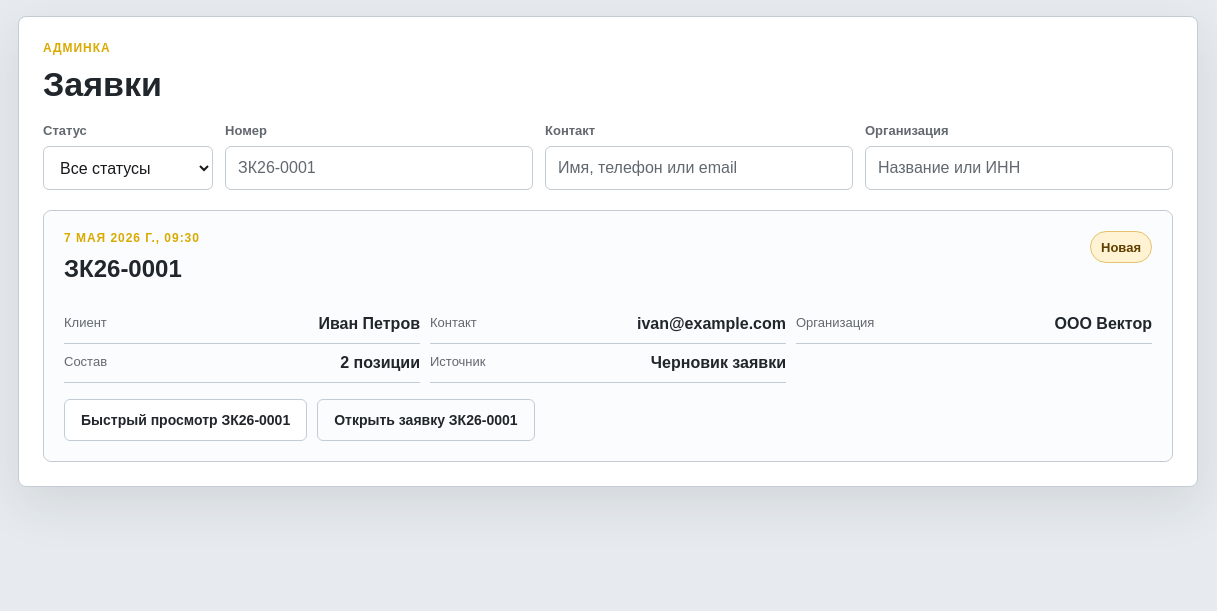
Admin RequestsPageClient › keeps filters mounted while refreshing the list
In the search field labelled "Номер": (379, 168) [225,146,533,190], type "0001"
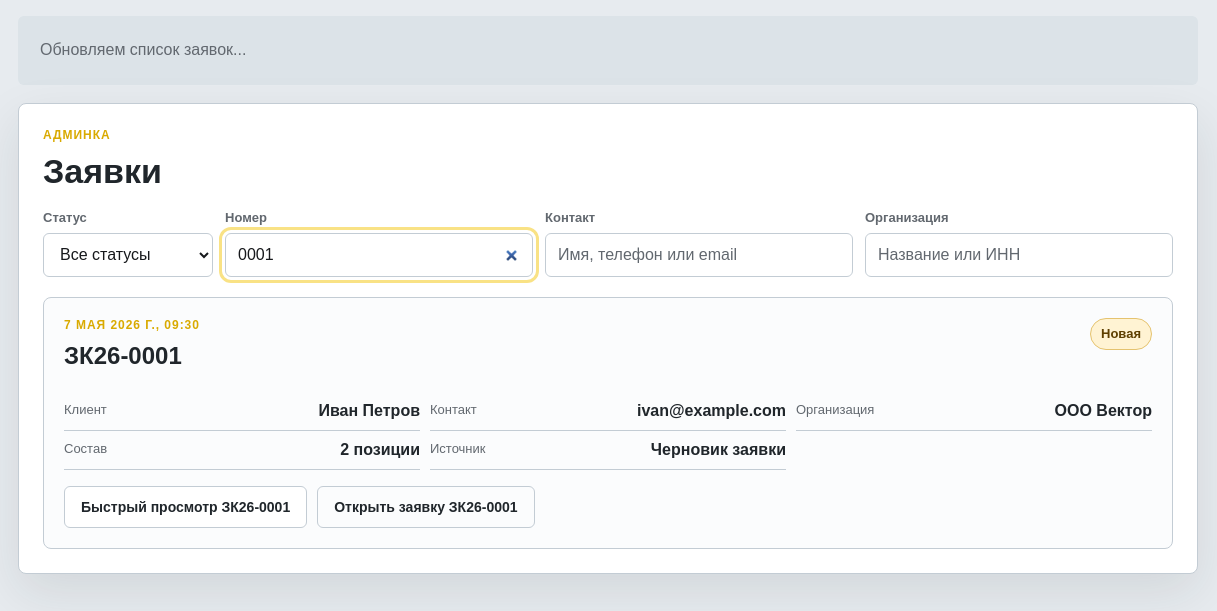
Expected: the text "Обновляем список заявок..." is shown, [18,16,1198,85]
